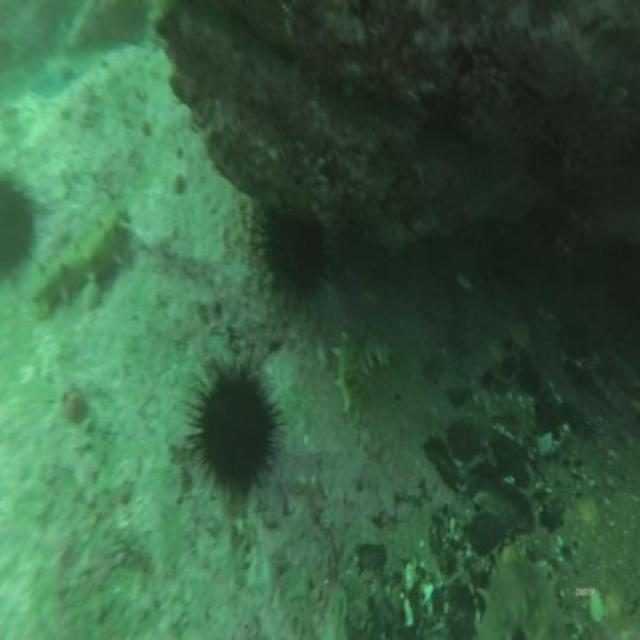echinus: (200, 368, 274, 490), (266, 213, 322, 291), (1, 182, 31, 281)
holothurian: (36, 209, 130, 316), (479, 559, 573, 640), (336, 321, 393, 414)
